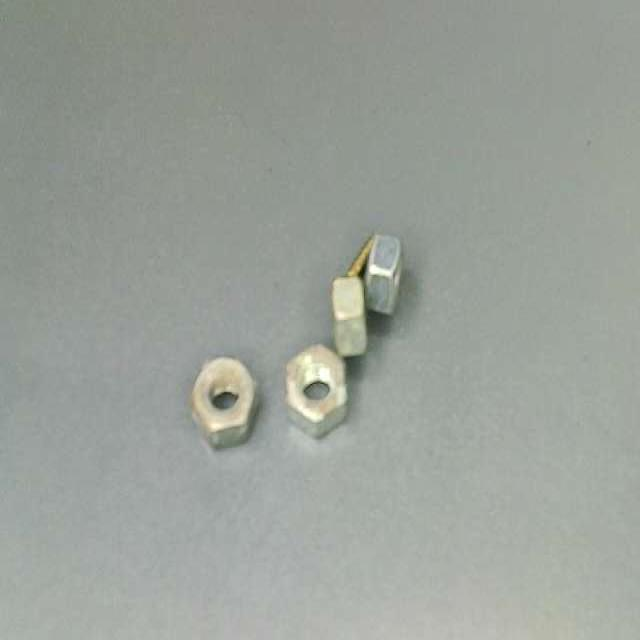Parafuso: (345, 235, 373, 276)
Porca: (287, 344, 347, 437), (193, 357, 255, 445), (334, 275, 369, 358), (364, 235, 401, 313)
